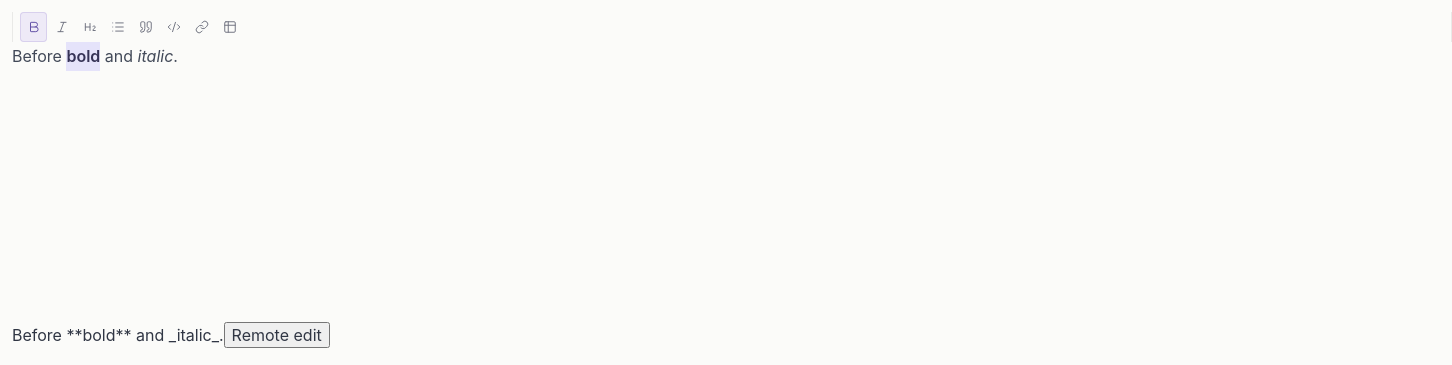
Visual formatting controls › reflects and toggles existing bold and italic without nesting delimiters
The width and height of the screenshot is (1452, 365).
Click the button named "Bold". click: (34, 27)
box: [20,12,47,42]
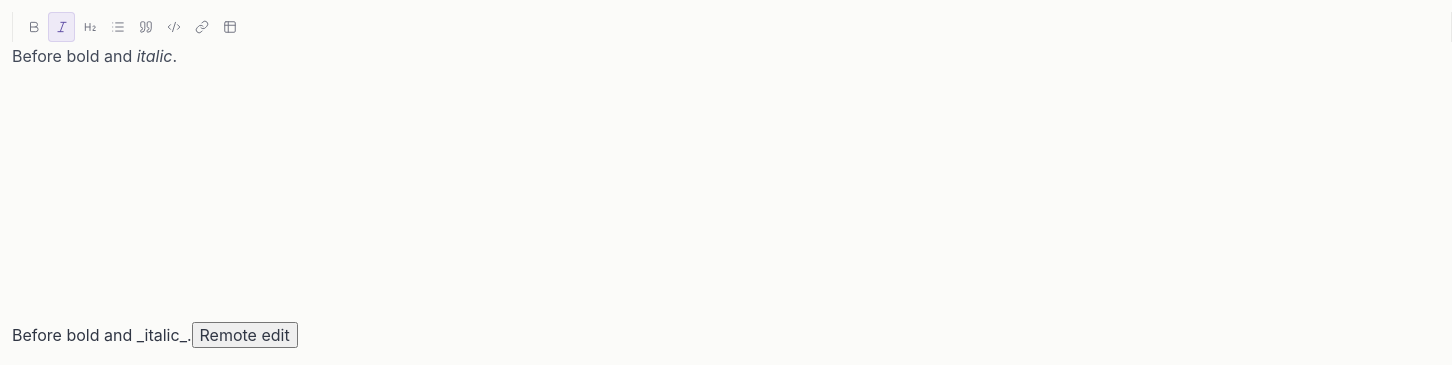
expect the text with test id "canonical" reads "Before bold and _italic_.": met, box [12,325,192,345]
Press i in the field named "Visual content", box [12,46,177,66]
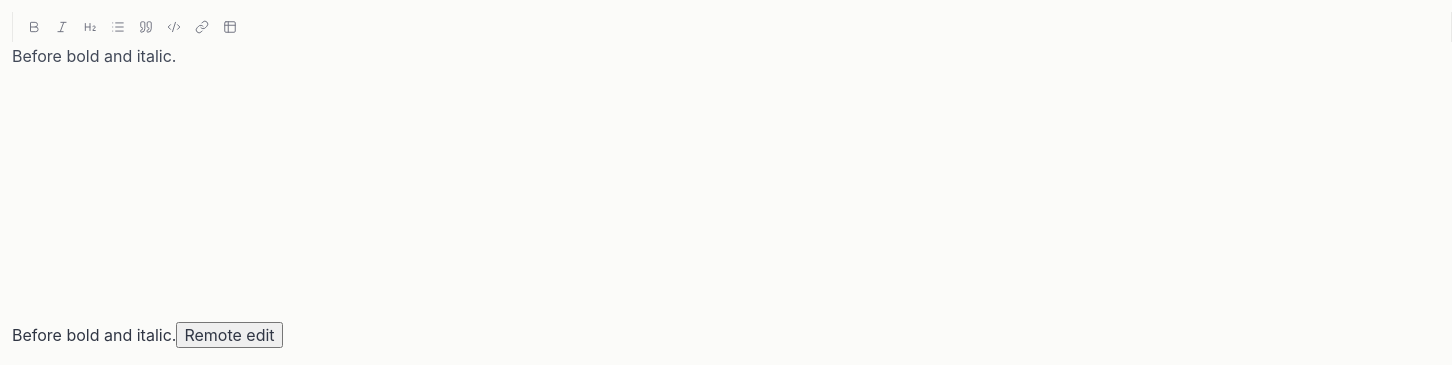
expect the text box labelled "Before bold and italic." is shown: met, box [12,46,176,66]
